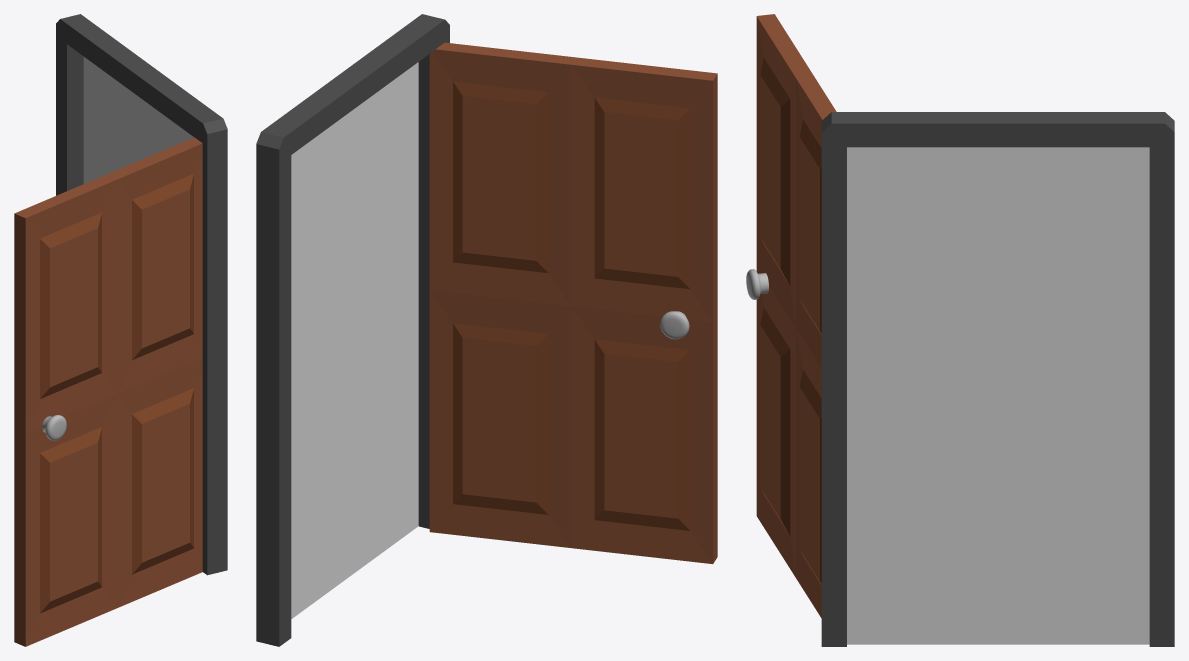
Rendered from Portal.fbx.
3 renders of one model, left to right at view 1: azimuth 30°, elevation 25°; view 2: azimuth 150°, elevation 25°; view 3: azimuth 270°, elevation 25°, orthographic. The views are drawn at different scales.
Parts seen in each view (by area): view 1: Door, DoorWay, Portal; view 2: Door, Portal, DoorWay; view 3: Portal, DoorWay, Door.
Part boxes in pixels (bbox=[...]): Door: bbox=[14, 137, 202, 646]; DoorWay: bbox=[56, 14, 227, 575]; Portal: bbox=[83, 57, 193, 183]; Door: bbox=[429, 42, 717, 564]; Portal: bbox=[291, 62, 418, 618]; DoorWay: bbox=[256, 14, 449, 646]; Portal: bbox=[847, 147, 1149, 644]; DoorWay: bbox=[821, 112, 1174, 646]; Door: bbox=[746, 14, 836, 617].
Size of the model in its own units: 228 by 419 by 311.
